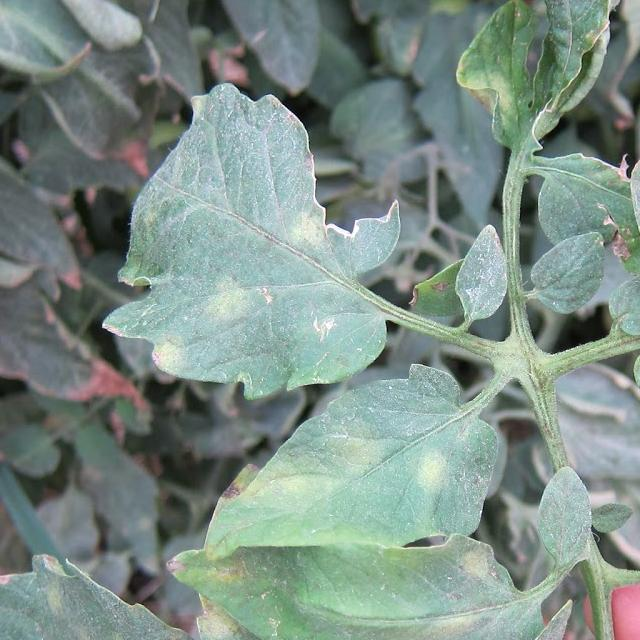Tomato mold leaf: (98, 85, 414, 401), (185, 363, 494, 640), (153, 557, 574, 640), (442, 0, 640, 147), (0, 534, 212, 640), (625, 52, 640, 458)
